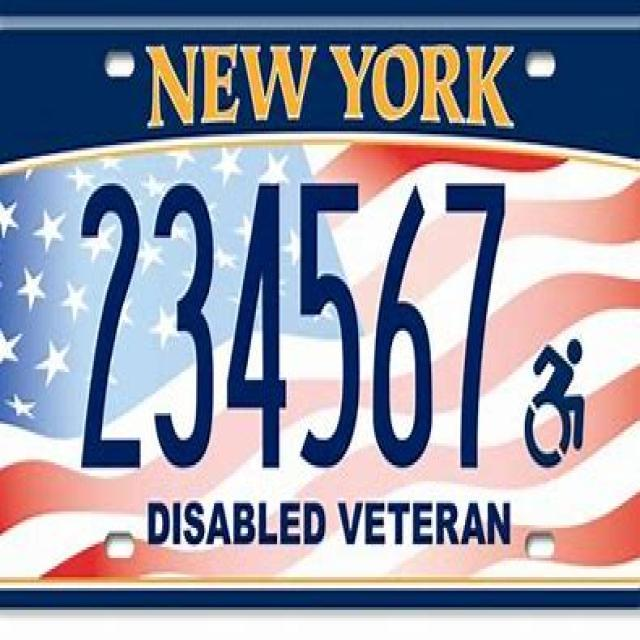symbol_of_access: (523, 334, 586, 472)
